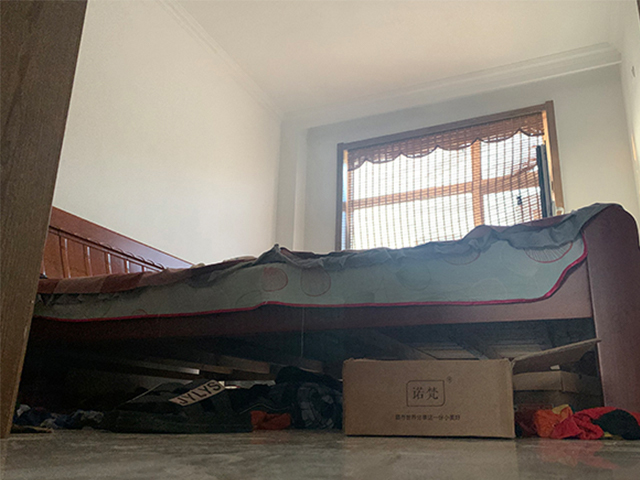bed: (30, 202, 640, 425)
slippers: (101, 378, 251, 434)
socks: (513, 404, 640, 442)
